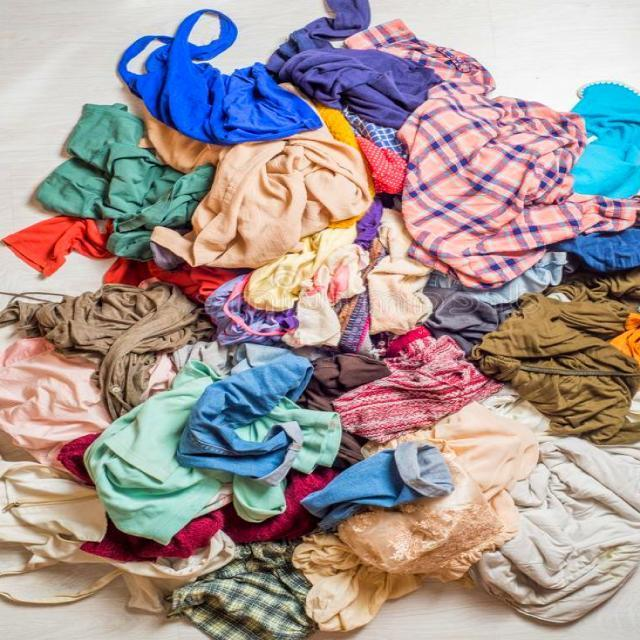clothes: (19, 396, 436, 566), (377, 17, 638, 278), (280, 358, 521, 640), (0, 276, 237, 552), (465, 419, 640, 636), (148, 115, 356, 286), (31, 95, 219, 262), (112, 2, 312, 158), (483, 298, 640, 462), (266, 0, 454, 120)
